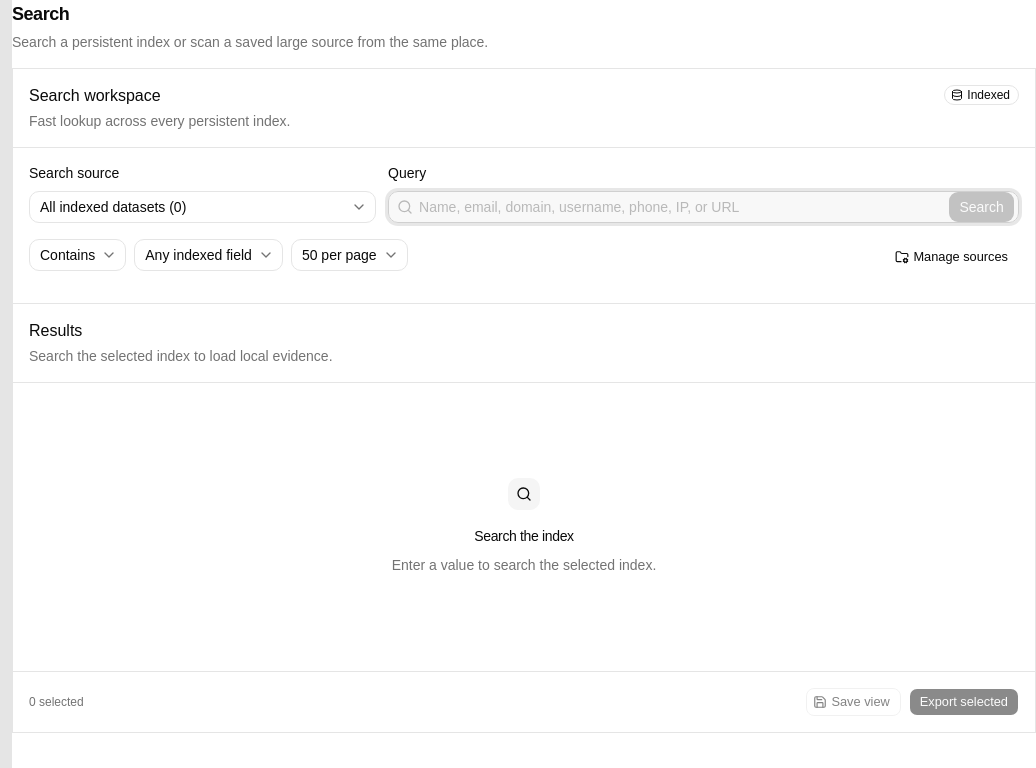
SearchPage query composer › counts indexed datasets and exposes one combined Live-source option
Click the dropdown "All indexed datasets (0)": point(113, 207) [29,191,376,223]
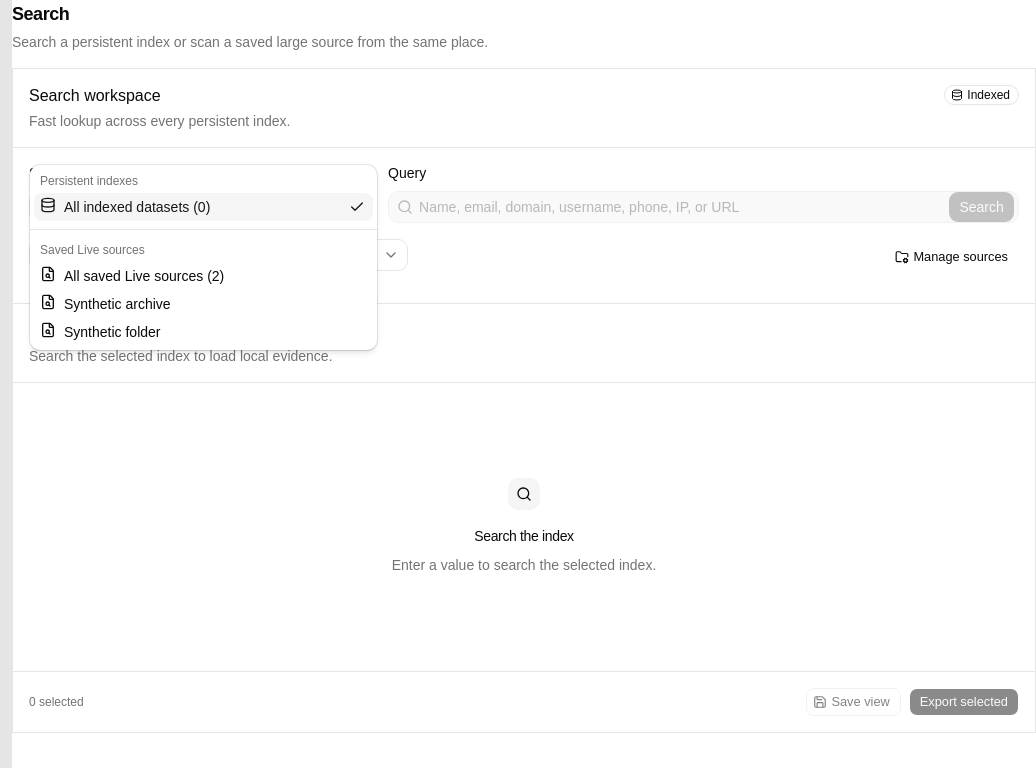
Expected: the text "All saved Live sources (2)" is shown, [40,266,224,284]
